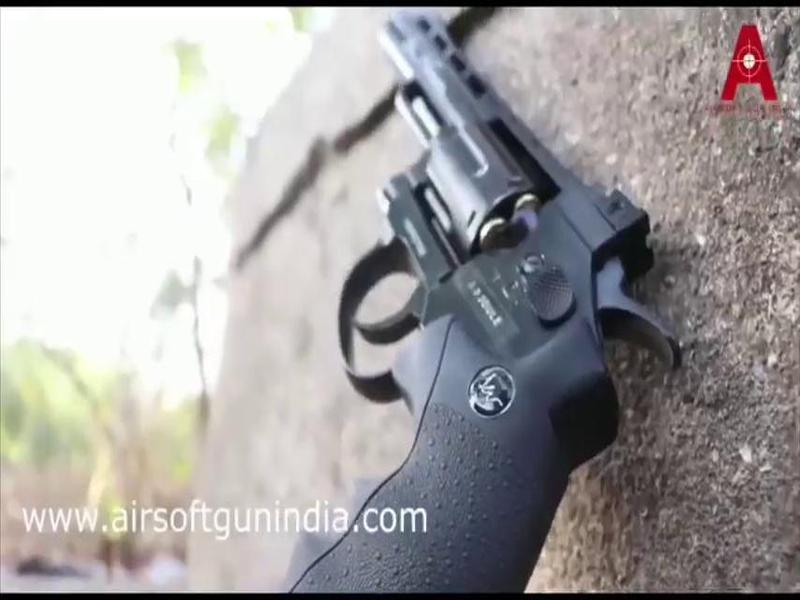Revolver: (312, 6, 696, 600)
